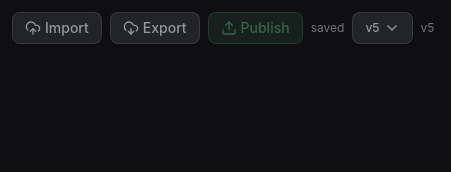
browser publish button › locks out all rollback/delete buttons while a rollback is in flight
Click the button with test id "published-version-menu-trigger": (382, 28) 352,12 -> 412,44
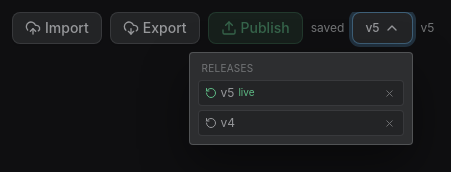
Click the button with test id "rollback-version-4": (220, 123) 204,115 -> 235,131
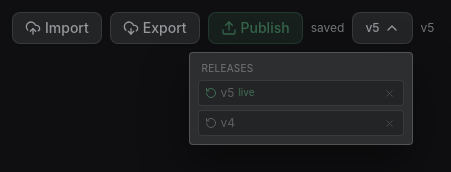
Expected: the button with test id "delete-version-5" is disabled, 382,86 -> 396,100
Now the button with test id "rollback-version-5" is disabled, box 204,85 -> 254,101
Now the button with test id "rollback-version-4" is disabled, box 204,115 -> 235,131
